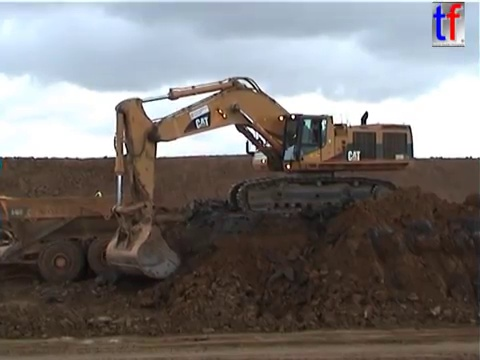excavator: (102, 74, 416, 282)
truck: (1, 191, 157, 286)
worker: (92, 186, 105, 212)
